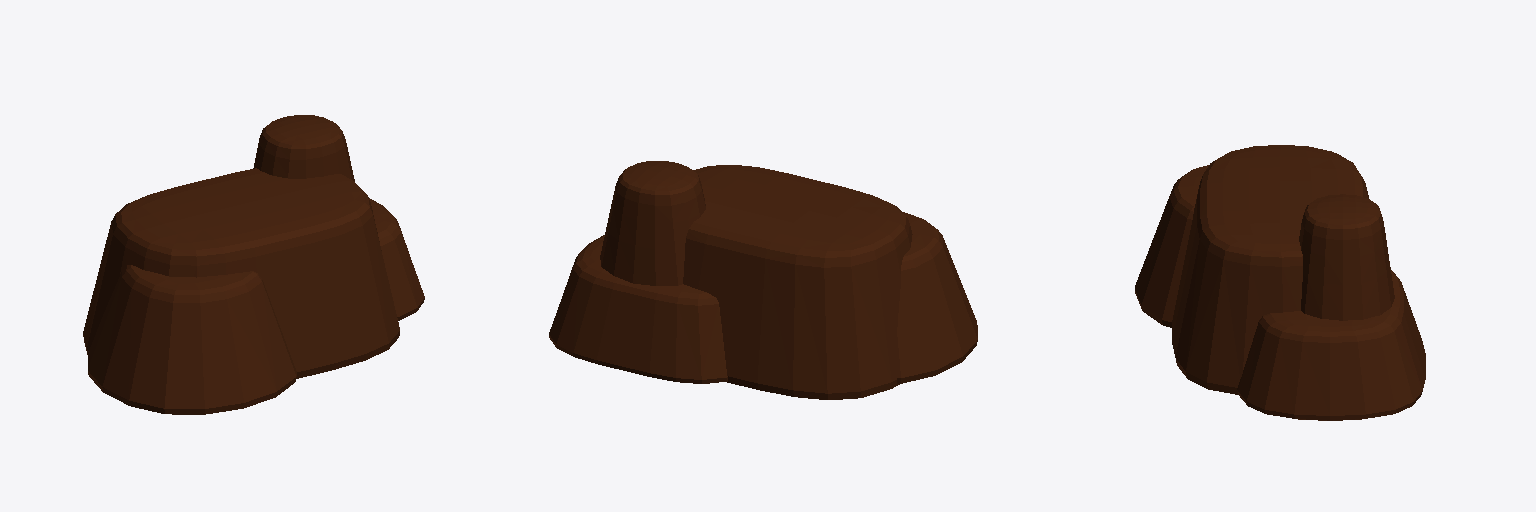
The model's file is RockPlatforms_2.obj.
3 views of the same model, side by side, from view 1: azimuth 30°, elevation 25°; view 2: azimuth 150°, elevation 25°; view 3: azimuth 270°, elevation 25° (orthographic).
Visible parts, largest first — view 1: RockPlatforms_2_Cube.373; view 2: RockPlatforms_2_Cube.373; view 3: RockPlatforms_2_Cube.373.
Part boxes in pixels (left/top/right/bottom): RockPlatforms_2_Cube.373: left=83, top=115, right=424, bottom=414; RockPlatforms_2_Cube.373: left=549, top=161, right=977, bottom=399; RockPlatforms_2_Cube.373: left=1135, top=145, right=1425, bottom=420.
Size of the model in its own units: 9.32 by 4.45 by 6.74.